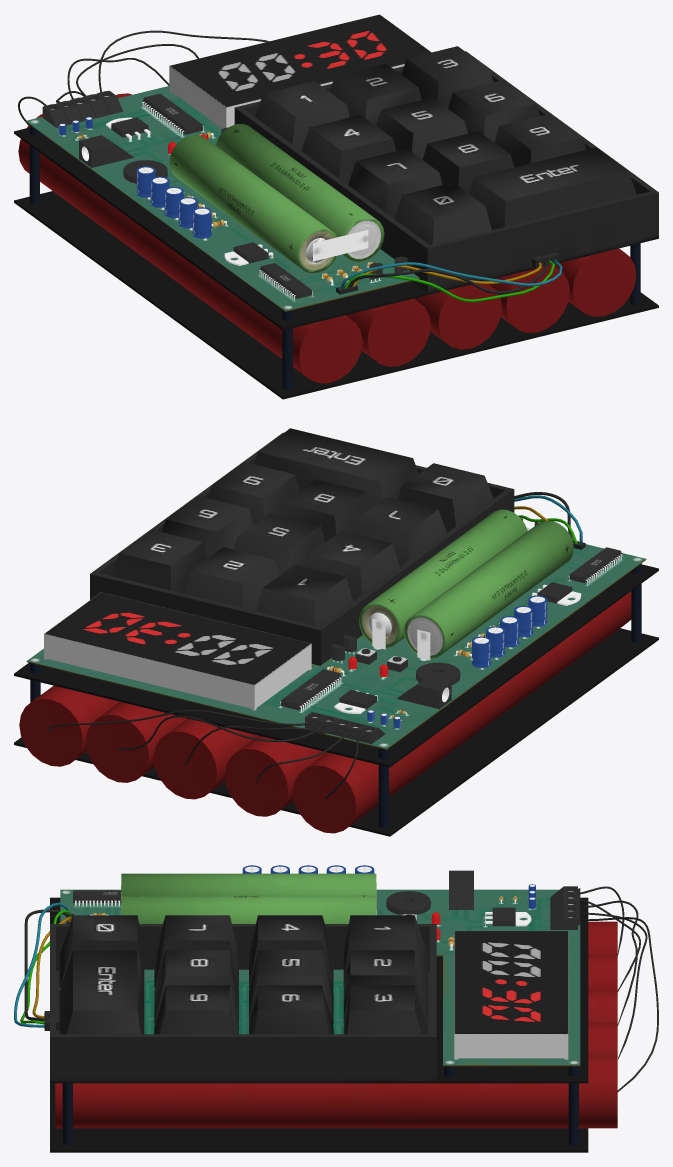
Rendered from timebomb.b49804c7a5.glb.
3 renders of one model, top to bottom at view 1: azimuth 30°, elevation 25°; view 2: azimuth 150°, elevation 25°; view 3: azimuth 270°, elevation 25°, orthographic.
Visible parts, largest first — view 1: numkey, tnt, pCube1, pCube18, pcb1, display, batt1, batt2, ic1, plug, Batt_c, ic3 (+9 smaller); view 2: numkey, tnt, pCube1, display, pcb1, pCube18, batt1, batt2, ic1, plug, ic3, pCylinder11 (+6 smaller); view 3: numkey, tnt, pCube1, display, pCube18, pcb1, batt2, batt1, Key_pad, plug, speaker, pCylinder12 (+9 smaller).
Part boxes in pixels (left/top/right/bottom): numkey: left=254, top=46, right=636, bottom=245; tnt: left=18, top=93, right=636, bottom=383; pCube1: left=14, top=51, right=658, bottom=330; pCube18: left=14, top=191, right=658, bottom=399; pcb1: left=25, top=86, right=419, bottom=311; display: left=169, top=14, right=431, bottom=128; batt1: left=169, top=135, right=336, bottom=273; batt2: left=215, top=123, right=384, bottom=262; ic1: left=142, top=93, right=203, bottom=136; plug: left=79, top=135, right=133, bottom=168; Batt_c: left=313, top=230, right=368, bottom=261; ic3: left=259, top=263, right=312, bottom=300; numkey: left=112, top=428, right=493, bottom=626; tnt: left=19, top=591, right=631, bottom=833; pCube1: left=14, top=433, right=658, bottom=767; display: left=44, top=592, right=311, bottom=710; pcb1: left=26, top=544, right=646, bottom=749; pCube18: left=14, top=628, right=658, bottom=836; batt1: left=404, top=520, right=573, bottom=659; batt2: left=359, top=509, right=527, bottom=647; ic1: left=280, top=669, right=341, bottom=712; plug: left=396, top=676, right=451, bottom=709; ic3: left=568, top=547, right=622, bottom=585; pCylinder11: left=378, top=748, right=388, bottom=827; numkey: left=59, top=915, right=428, bottom=1034; tnt: left=55, top=921, right=617, bottom=1128; pCube1: left=50, top=897, right=588, bottom=1083; display: left=454, top=931, right=568, bottom=1059; pCube18: left=50, top=1083, right=588, bottom=1152; pcb1: left=60, top=889, right=580, bottom=1066; batt2: left=121, top=895, right=376, bottom=923; batt1: left=121, top=873, right=376, bottom=908; Key_pad: left=59, top=969, right=343, bottom=1034; plug: left=449, top=870, right=473, bottom=910; speaker: left=386, top=891, right=430, bottom=914; pCylinder12: left=568, top=1066, right=578, bottom=1145.
Bounding box in the file's own units: 0.0403 × 0.0136 × 0.0598.
Materials: 7 (7 with a texture image).
